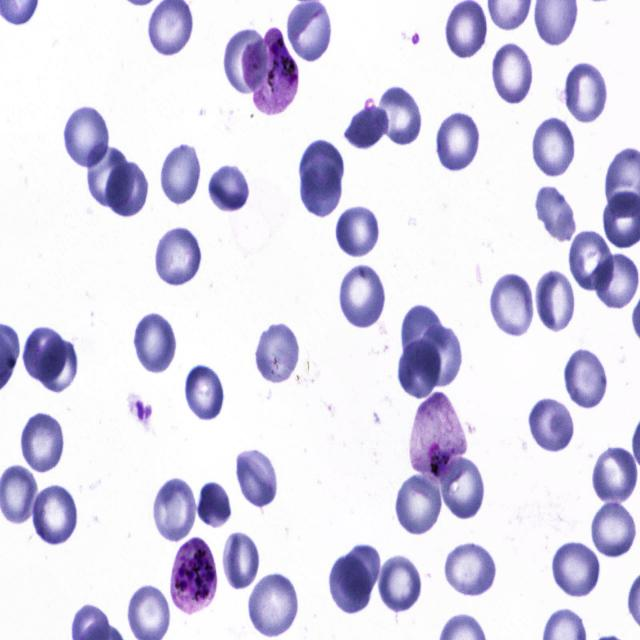difficult: (409, 392, 467, 482)
red blood cell: (246, 572, 299, 638), (400, 303, 448, 375), (336, 262, 388, 328), (152, 223, 204, 288), (444, 540, 501, 599), (488, 272, 536, 340), (550, 538, 602, 599), (85, 144, 134, 208), (530, 114, 579, 178), (151, 476, 197, 543), (376, 554, 424, 616), (253, 324, 301, 386), (132, 310, 177, 376), (287, 0, 334, 63), (225, 27, 269, 94), (435, 110, 482, 172), (63, 105, 109, 168), (564, 346, 610, 409), (489, 43, 535, 106), (31, 486, 79, 546), (21, 410, 66, 474), (396, 338, 442, 399), (417, 324, 462, 386), (564, 62, 608, 125), (396, 475, 442, 535), (160, 142, 203, 206), (442, 457, 484, 522), (570, 229, 614, 291), (378, 85, 422, 147), (527, 396, 574, 454), (592, 447, 638, 506), (592, 254, 640, 310), (533, 268, 576, 330), (236, 444, 279, 506), (334, 204, 381, 260), (535, 184, 580, 242), (22, 326, 68, 382), (591, 501, 636, 558), (300, 140, 344, 198), (328, 556, 372, 614), (444, 0, 487, 58), (105, 160, 148, 218), (301, 158, 342, 217), (221, 532, 260, 591), (37, 337, 77, 394), (187, 364, 226, 422), (339, 545, 381, 598), (209, 163, 251, 212), (344, 105, 390, 149), (194, 482, 232, 528)
schizont: (241, 26, 300, 116), (168, 538, 218, 616)
